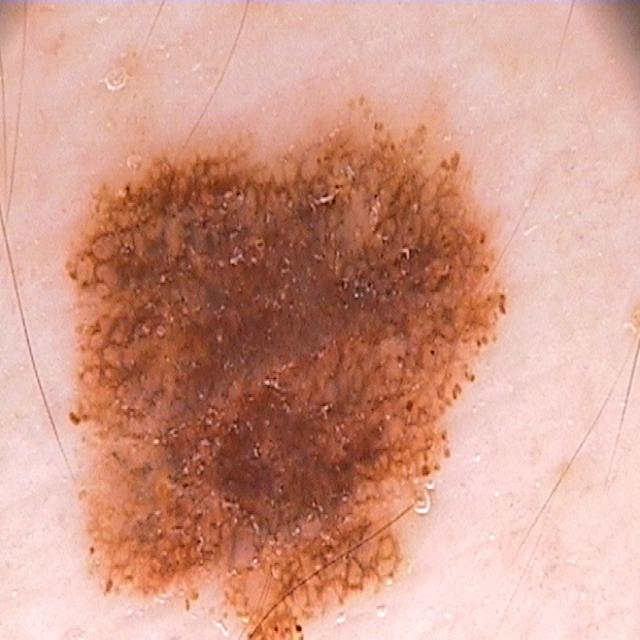Melanoma: (56, 105, 531, 640)
